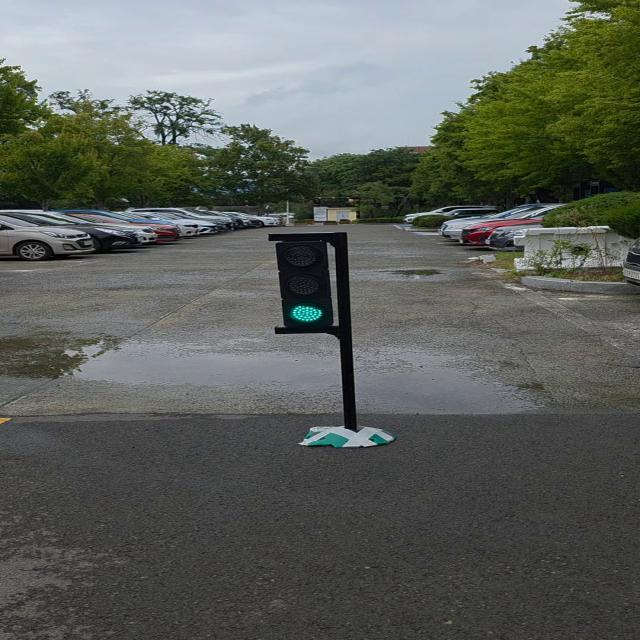green: (278, 233, 349, 334)
